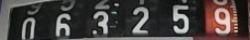digits: (172, 5, 190, 32), (131, 5, 149, 32), (213, 6, 230, 34), (54, 13, 70, 36), (92, 10, 108, 32), (21, 16, 36, 38)
